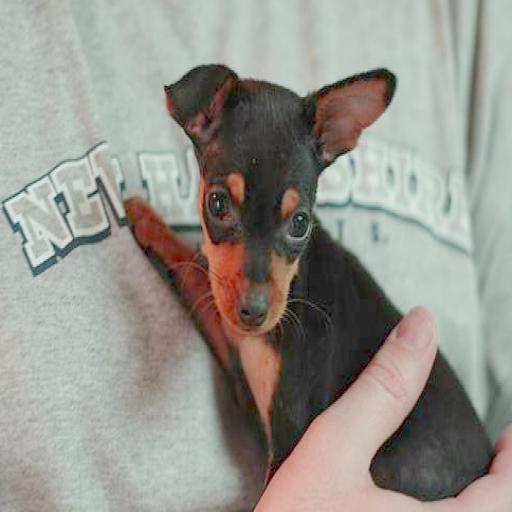dog_face: (166, 54, 388, 347)
